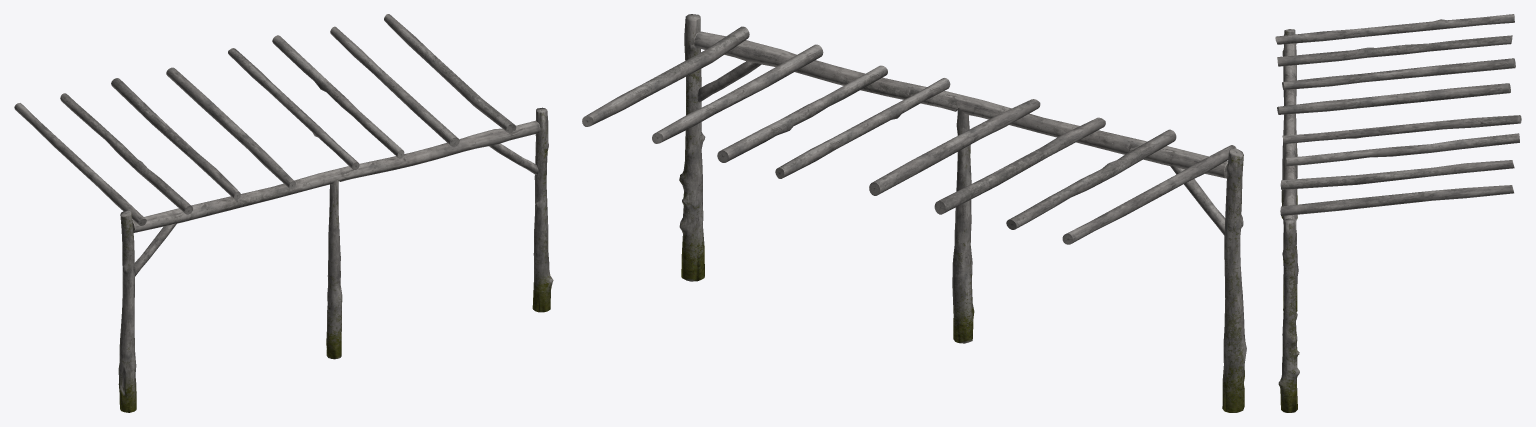
Rendered from SM_SupportModule_1.fbx.
3 renders of one model, left to right at view 1: azimuth 30°, elevation 25°; view 2: azimuth 150°, elevation 25°; view 3: azimuth 270°, elevation 25°, orthographic. The views are drawn at different scales.
Visible parts, largest first — view 1: SM_SupportModule_1_LOD0; view 2: SM_SupportModule_1_LOD0; view 3: SM_SupportModule_1_LOD0.
Boxes of the visible parts, left/top/right/bottom form: SM_SupportModule_1_LOD0: left=14, top=14, right=553, bottom=412; SM_SupportModule_1_LOD0: left=582, top=14, right=1246, bottom=412; SM_SupportModule_1_LOD0: left=1275, top=14, right=1521, bottom=412.
Bounding box in the file's own units: 622 × 324 × 304.
